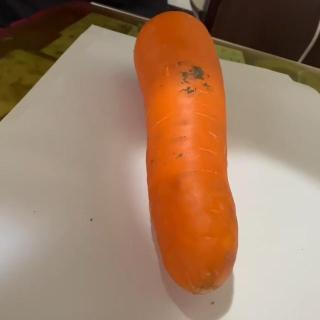carrot: (131, 8, 242, 293)
